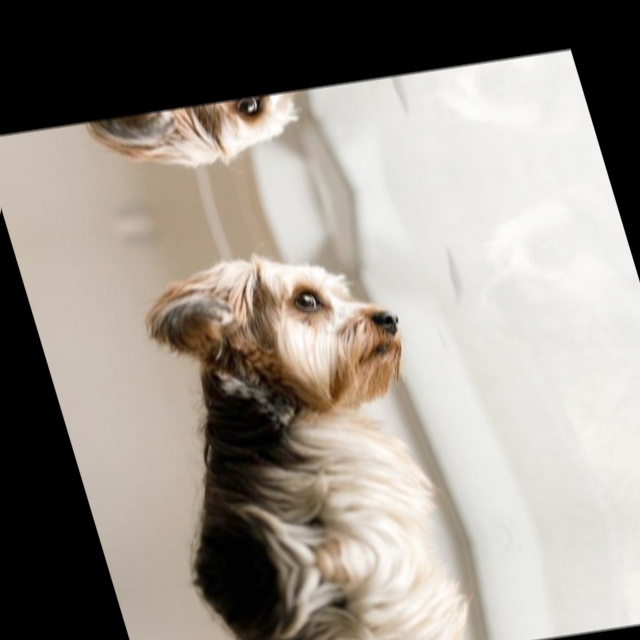dog: (133, 219, 460, 431), (91, 79, 388, 189)
